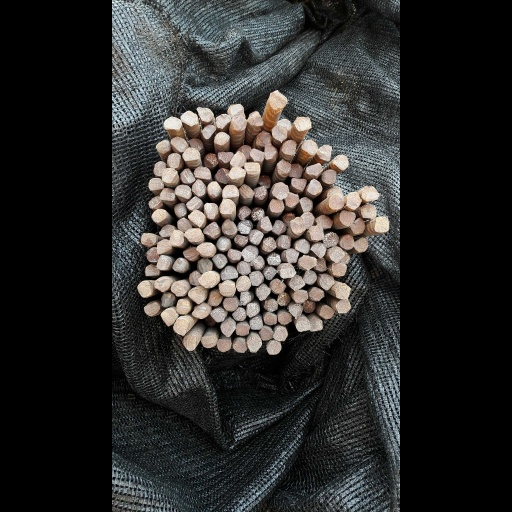dipstick: (280, 90, 311, 108), (392, 282, 424, 299), (44, 280, 73, 298), (85, 308, 112, 327), (121, 111, 153, 127), (149, 242, 183, 257), (367, 272, 395, 290), (149, 106, 180, 122), (285, 182, 316, 198), (154, 272, 185, 288), (105, 281, 136, 297), (91, 116, 124, 131), (443, 186, 476, 201), (104, 135, 134, 151), (229, 246, 261, 261), (135, 288, 167, 303), (162, 221, 190, 238), (194, 219, 222, 236), (240, 334, 265, 353), (192, 319, 218, 337), (144, 166, 175, 181), (184, 338, 215, 353), (182, 113, 211, 129), (190, 281, 219, 297), (143, 304, 176, 318), (168, 181, 195, 198), (135, 210, 162, 227), (387, 193, 414, 210), (221, 275, 248, 292), (107, 318, 134, 335), (124, 334, 151, 351), (240, 111, 270, 126), (362, 214, 392, 229), (381, 247, 411, 262), (331, 255, 361, 270), (75, 277, 105, 292), (300, 139, 328, 155), (194, 184, 226, 198), (350, 225, 378, 241), (266, 235, 294, 251), (191, 198, 217, 215), (112, 184, 141, 199), (123, 246, 152, 261), (281, 278, 310, 293), (254, 285, 283, 300), (211, 150, 238, 166), (394, 154, 421, 170), (120, 168, 147, 184), (416, 192, 443, 208), (424, 218, 451, 234), (406, 210, 433, 226), (316, 274, 343, 290), (169, 290, 196, 306), (113, 299, 140, 315), (162, 202, 187, 219), (242, 228, 267, 245), (336, 139, 364, 154), (279, 198, 307, 213), (441, 203, 469, 218), (350, 286, 378, 301), (140, 180, 166, 196), (348, 178, 374, 194), (128, 229, 160, 242), (318, 217, 344, 233), (211, 115, 240, 129), (299, 263, 328, 277), (285, 125, 312, 140), (182, 168, 209, 183), (183, 236, 210, 251), (350, 316, 377, 331), (205, 103, 233, 117), (326, 116, 354, 130), (210, 166, 238, 180), (68, 209, 96, 223), (344, 163, 374, 176), (78, 240, 104, 255), (404, 234, 430, 249), (390, 262, 416, 277), (395, 300, 425, 313), (326, 318, 352, 333), (221, 260, 247, 275), (192, 267, 222, 280), (55, 302, 85, 315), (366, 144, 390, 160), (104, 230, 128, 246), (377, 232, 401, 248), (88, 168, 115, 182), (115, 217, 142, 231), (325, 239, 352, 253), (268, 311, 295, 325), (125, 148, 154, 161), (318, 177, 347, 190), (159, 124, 184, 139), (375, 169, 400, 184), (467, 217, 492, 232), (430, 237, 455, 252), (354, 242, 379, 257), (286, 219, 311, 234), (287, 327, 312, 342), (269, 144, 292, 160), (335, 212, 358, 228), (216, 337, 239, 353), (181, 131, 209, 144), (292, 159, 318, 173), (226, 184, 252, 198), (132, 196, 158, 210), (51, 233, 79, 246), (332, 197, 358, 211), (273, 252, 301, 265), (261, 327, 287, 341), (178, 254, 204, 268), (150, 258, 178, 271), (87, 292, 113, 306), (258, 130, 282, 145), (136, 137, 160, 152), (96, 152, 120, 167), (108, 202, 132, 217), (308, 192, 332, 207), (264, 216, 286, 232), (77, 139, 104, 152), (85, 188, 112, 201), (219, 323, 246, 336), (223, 220, 248, 234), (107, 258, 132, 272), (338, 300, 363, 314), (313, 303, 338, 317), (269, 266, 294, 280), (164, 152, 187, 167), (315, 162, 338, 177), (80, 255, 103, 270), (307, 248, 330, 263), (225, 291, 248, 306), (136, 270, 159, 285), (245, 148, 271, 161), (276, 342, 302, 355), (198, 297, 224, 310), (64, 178, 92, 190), (296, 234, 320, 248), (321, 290, 349, 302), (238, 303, 262, 317), (159, 335, 183, 349), (176, 308, 200, 322), (243, 271, 267, 285), (295, 117, 320, 130), (64, 195, 89, 208), (369, 305, 394, 318), (296, 312, 321, 325), (213, 308, 238, 321), (83, 224, 110, 236), (224, 205, 247, 219), (247, 207, 270, 221), (292, 293, 315, 307), (244, 316, 267, 330), (72, 161, 96, 174), (251, 186, 275, 199), (205, 248, 231, 260), (234, 162, 262, 173), (57, 264, 85, 275), (304, 210, 326, 224), (341, 270, 363, 284), (248, 255, 270, 269), (271, 299, 296, 311), (59, 248, 82, 261), (362, 258, 382, 272), (381, 186, 412, 195), (217, 235, 242, 246), (226, 144, 246, 157), (164, 315, 185, 327), (187, 151, 212, 161), (261, 175, 281, 187), (408, 250, 424, 264)
